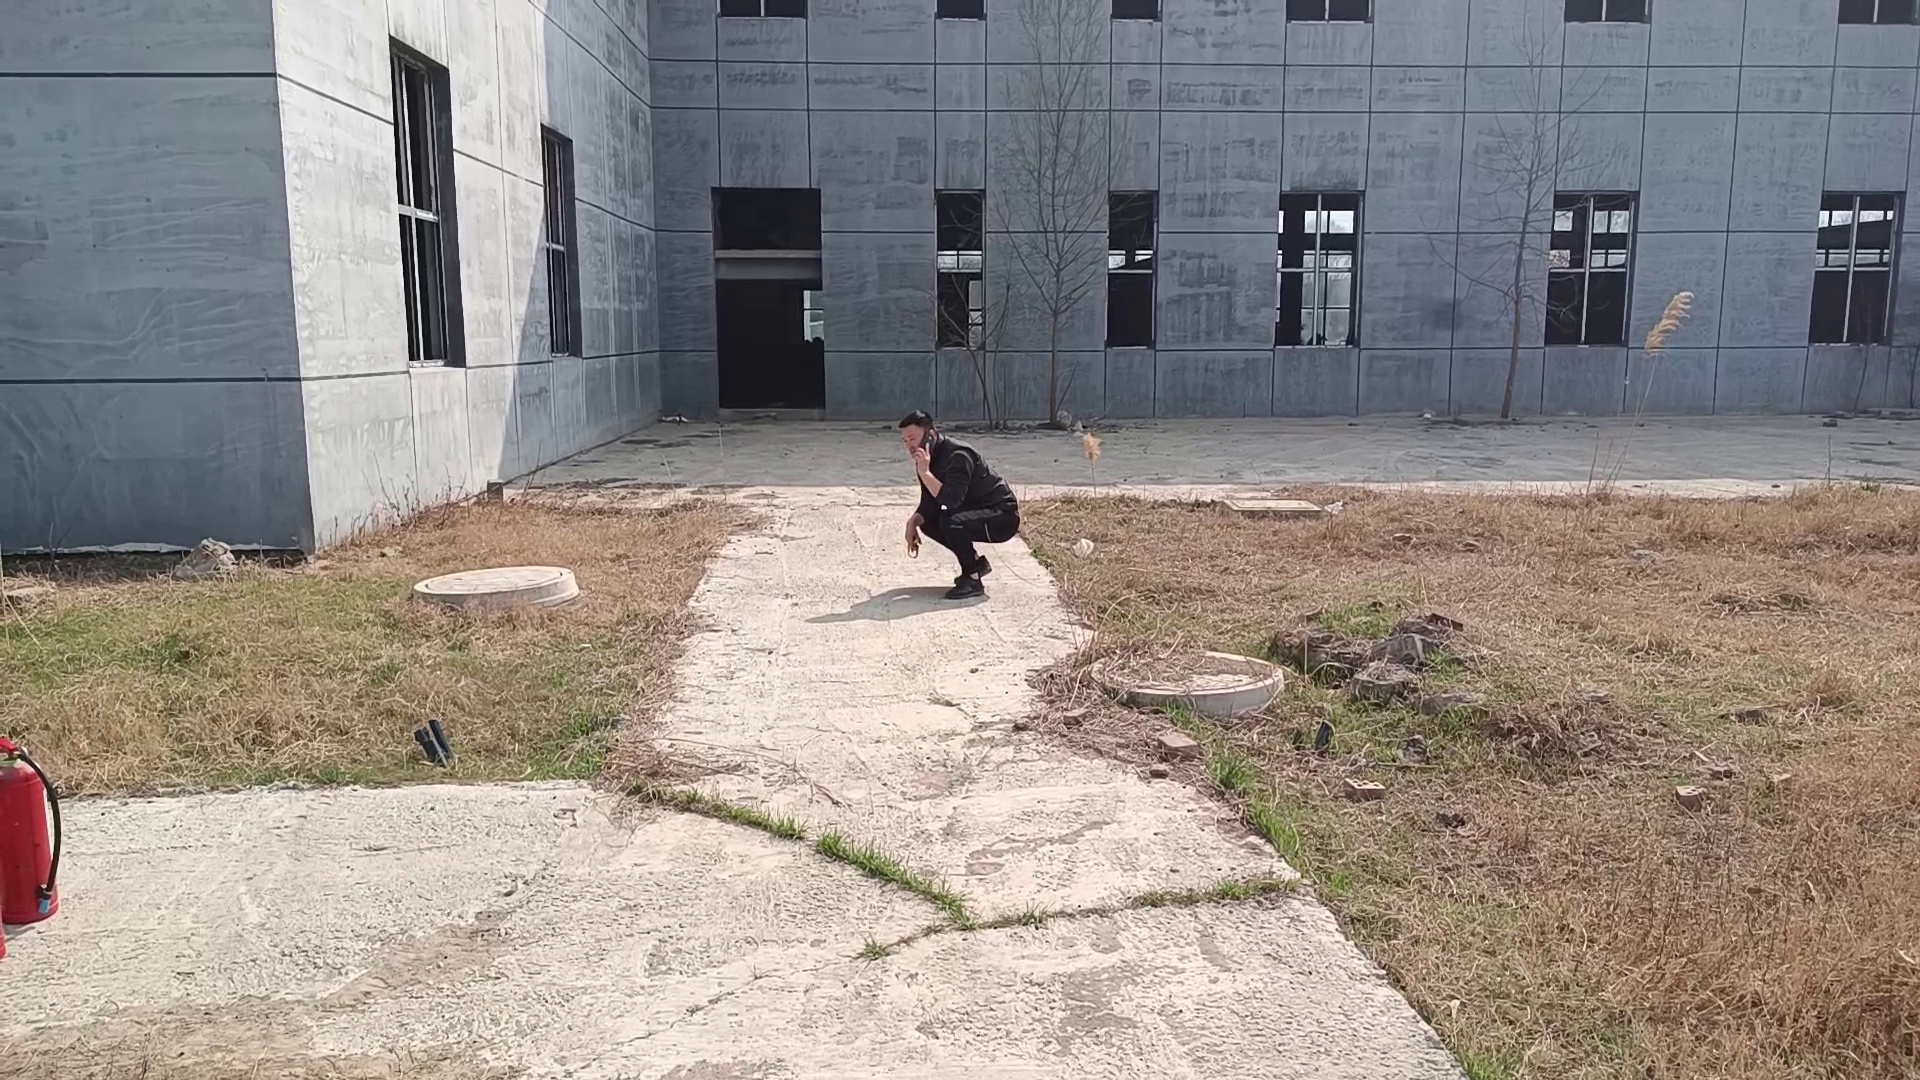phone: (895, 409, 942, 462)
